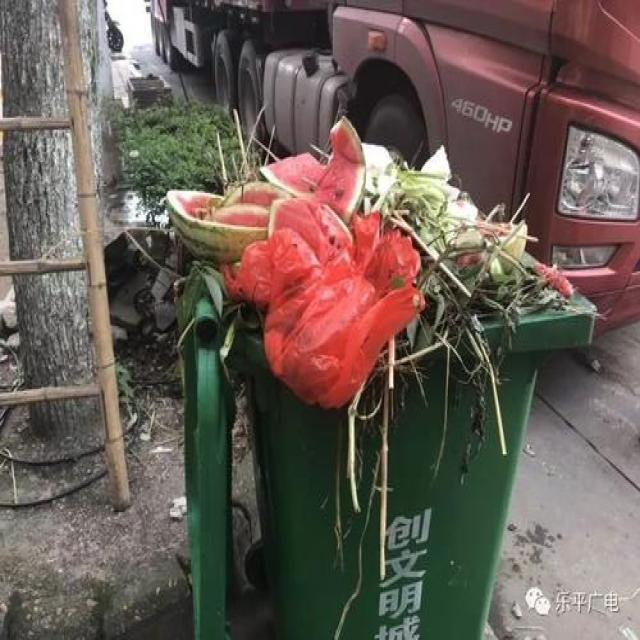overflow: (162, 118, 592, 638)
